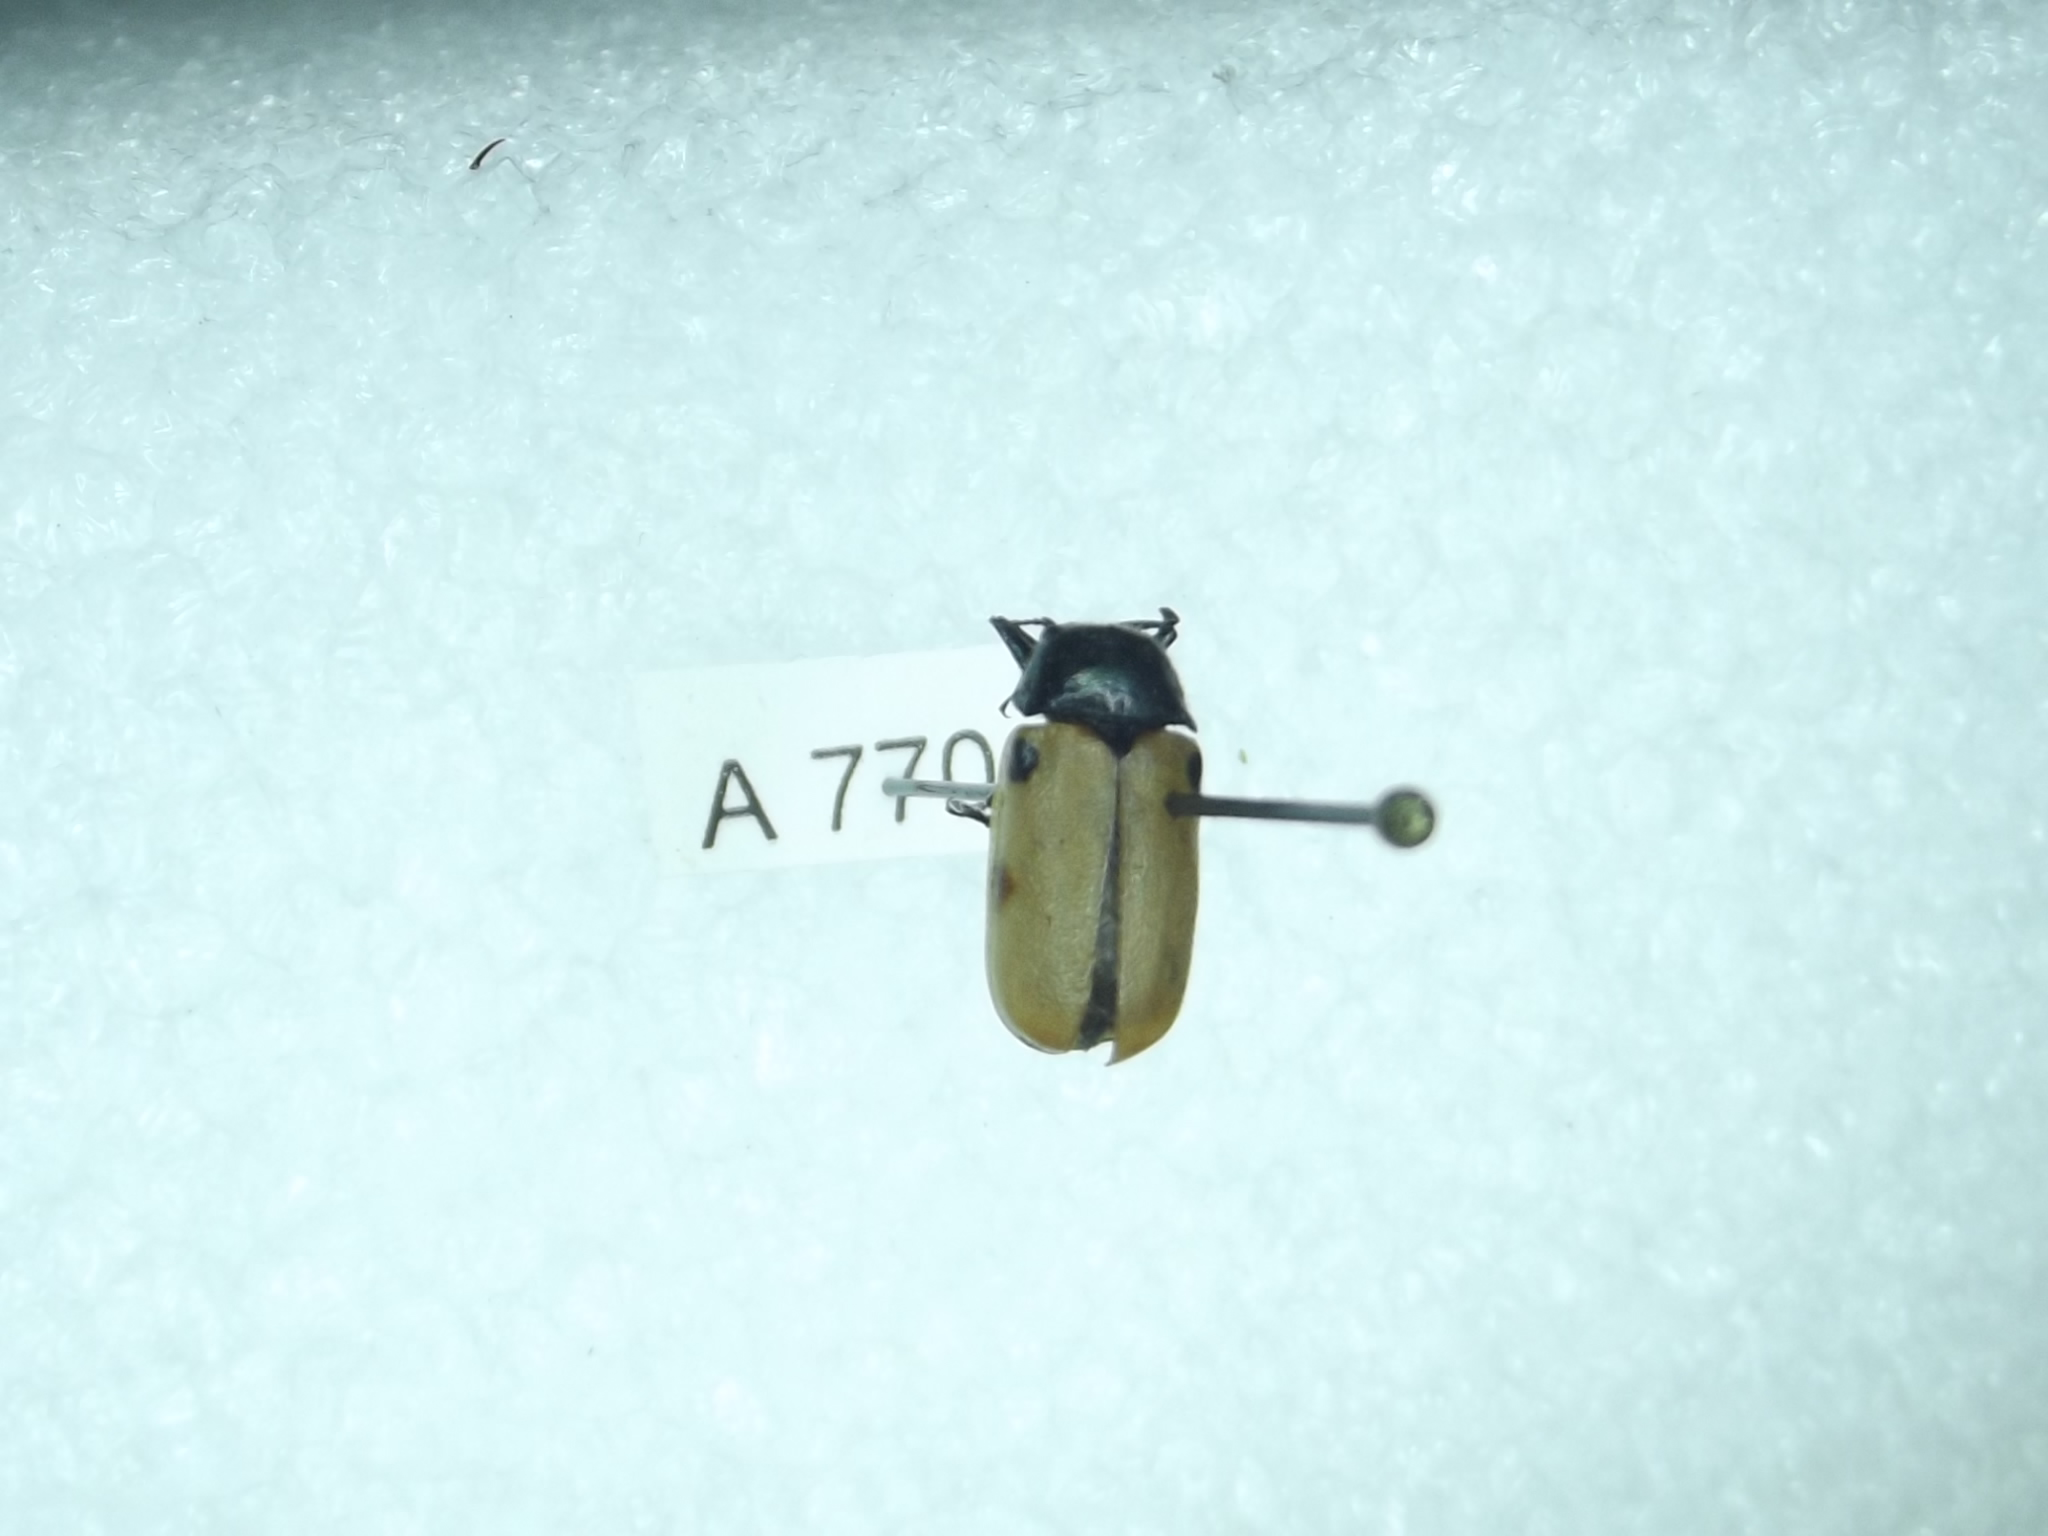Labidostomis_propinqua: (964, 603, 1226, 1065)
